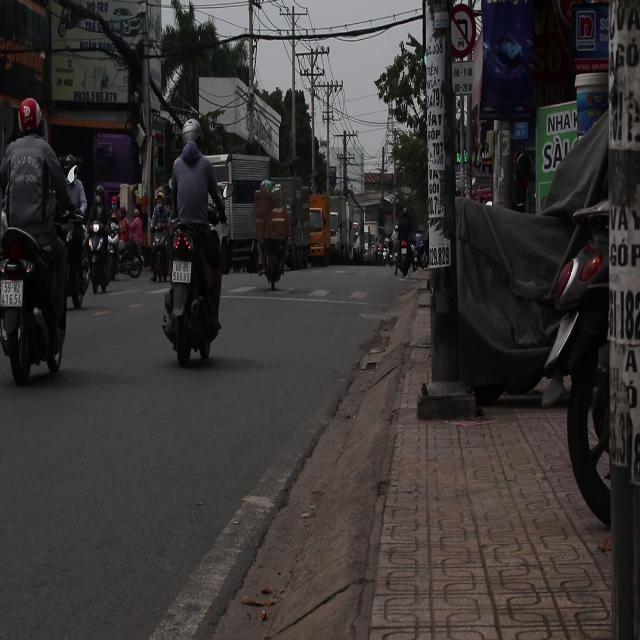motorbike: (159, 200, 225, 372), (1, 220, 67, 384), (242, 192, 296, 310), (84, 207, 122, 293), (382, 220, 422, 284), (148, 210, 174, 284)
truck: (306, 196, 342, 267)
